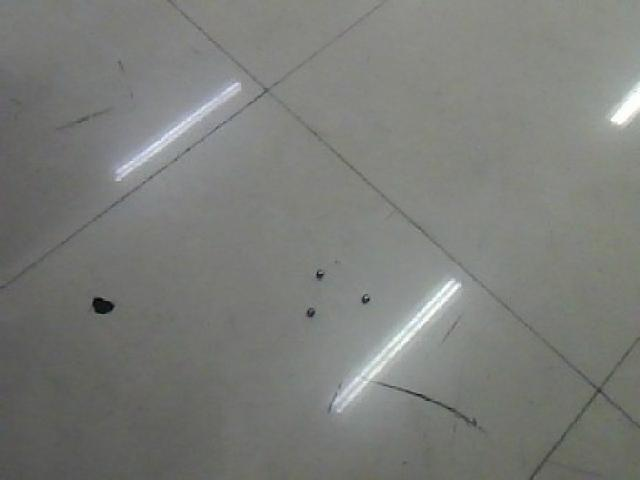steel-ball: (346, 282, 372, 313), (297, 295, 320, 323), (306, 257, 328, 283)
